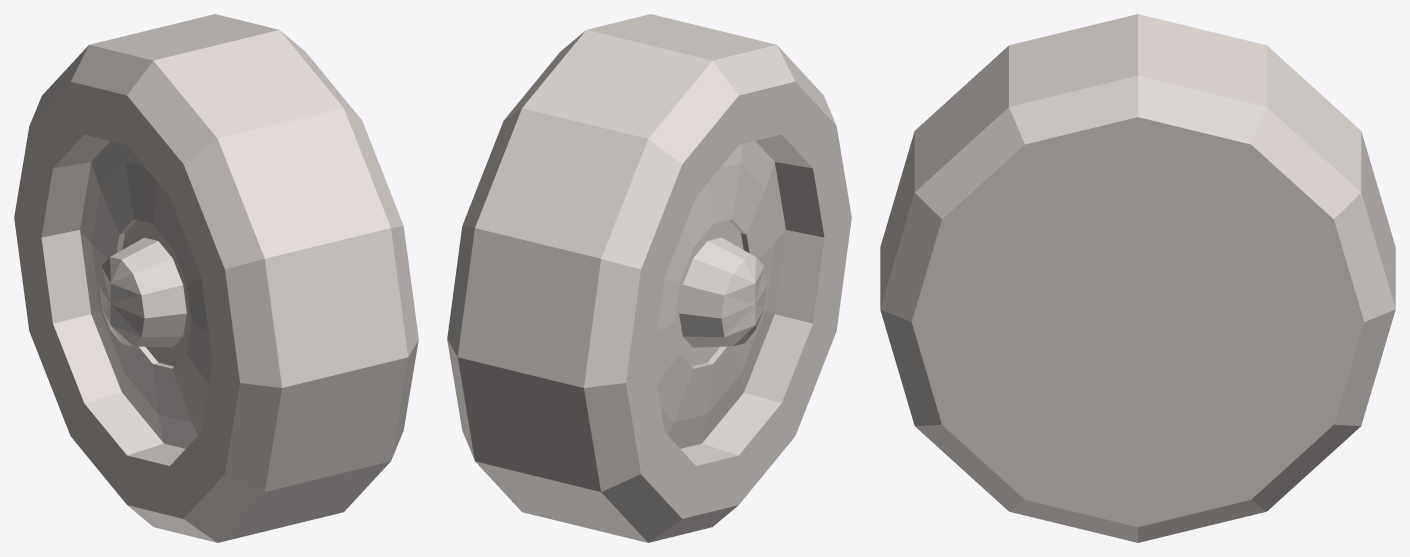
File: 4bakwe.FBX
3 renders of one model, left to right at view 1: azimuth 30°, elevation 25°; view 2: azimuth 150°, elevation 25°; view 3: azimuth 270°, elevation 25°, orthographic.
Visible parts, largest first — view 1: Object004; view 2: Object004; view 3: Object004.
Part boxes in pixels (x1,y1,x2,y2): Object004: [14, 14, 418, 542]; Object004: [447, 14, 851, 542]; Object004: [880, 14, 1395, 542].
Bounding box in the file's own units: 14.52 × 33.16 × 33.16.
Materials: 1 (1 with a texture image).
